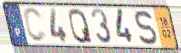3: (91, 8, 113, 45)
4: (116, 7, 136, 47), (50, 7, 70, 45)
C: (22, 7, 48, 44)
Q: (68, 7, 94, 45)
S: (134, 9, 159, 47)
